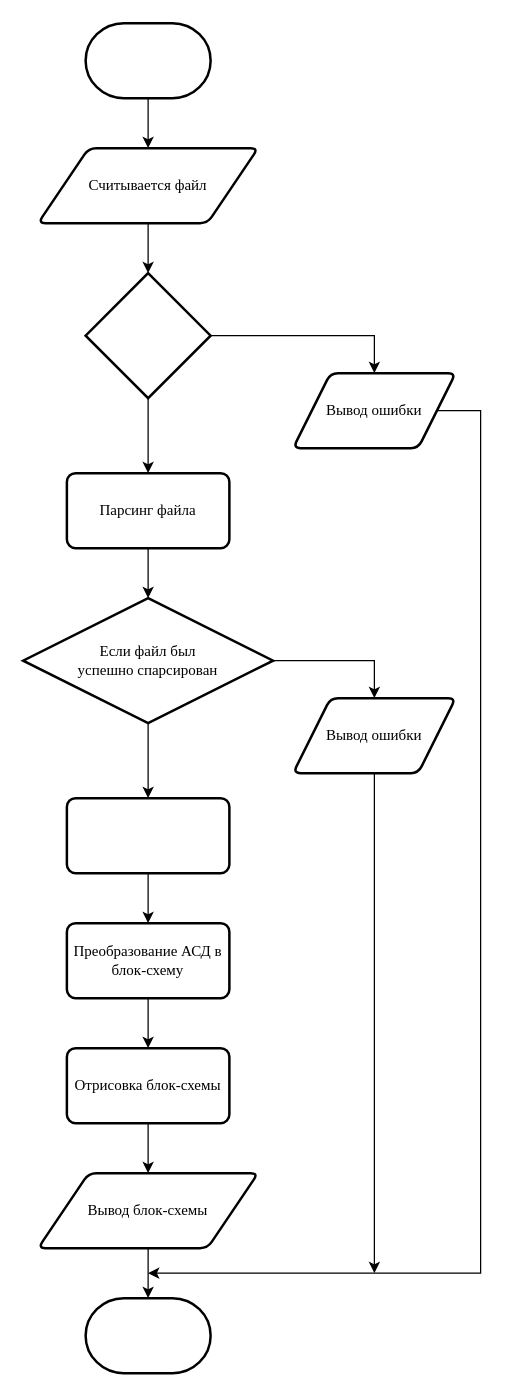
Image size: 513x1395. Some labels were removed from this diagram. The box of each missing label's shape, as (x1, y1, x2, y2) in pixels:
Если файл существует: (84, 271, 211, 399)
Конец: (84, 1296, 211, 1374)
Обработка АСД: (65, 796, 230, 874)
Старт: (84, 21, 211, 99)
